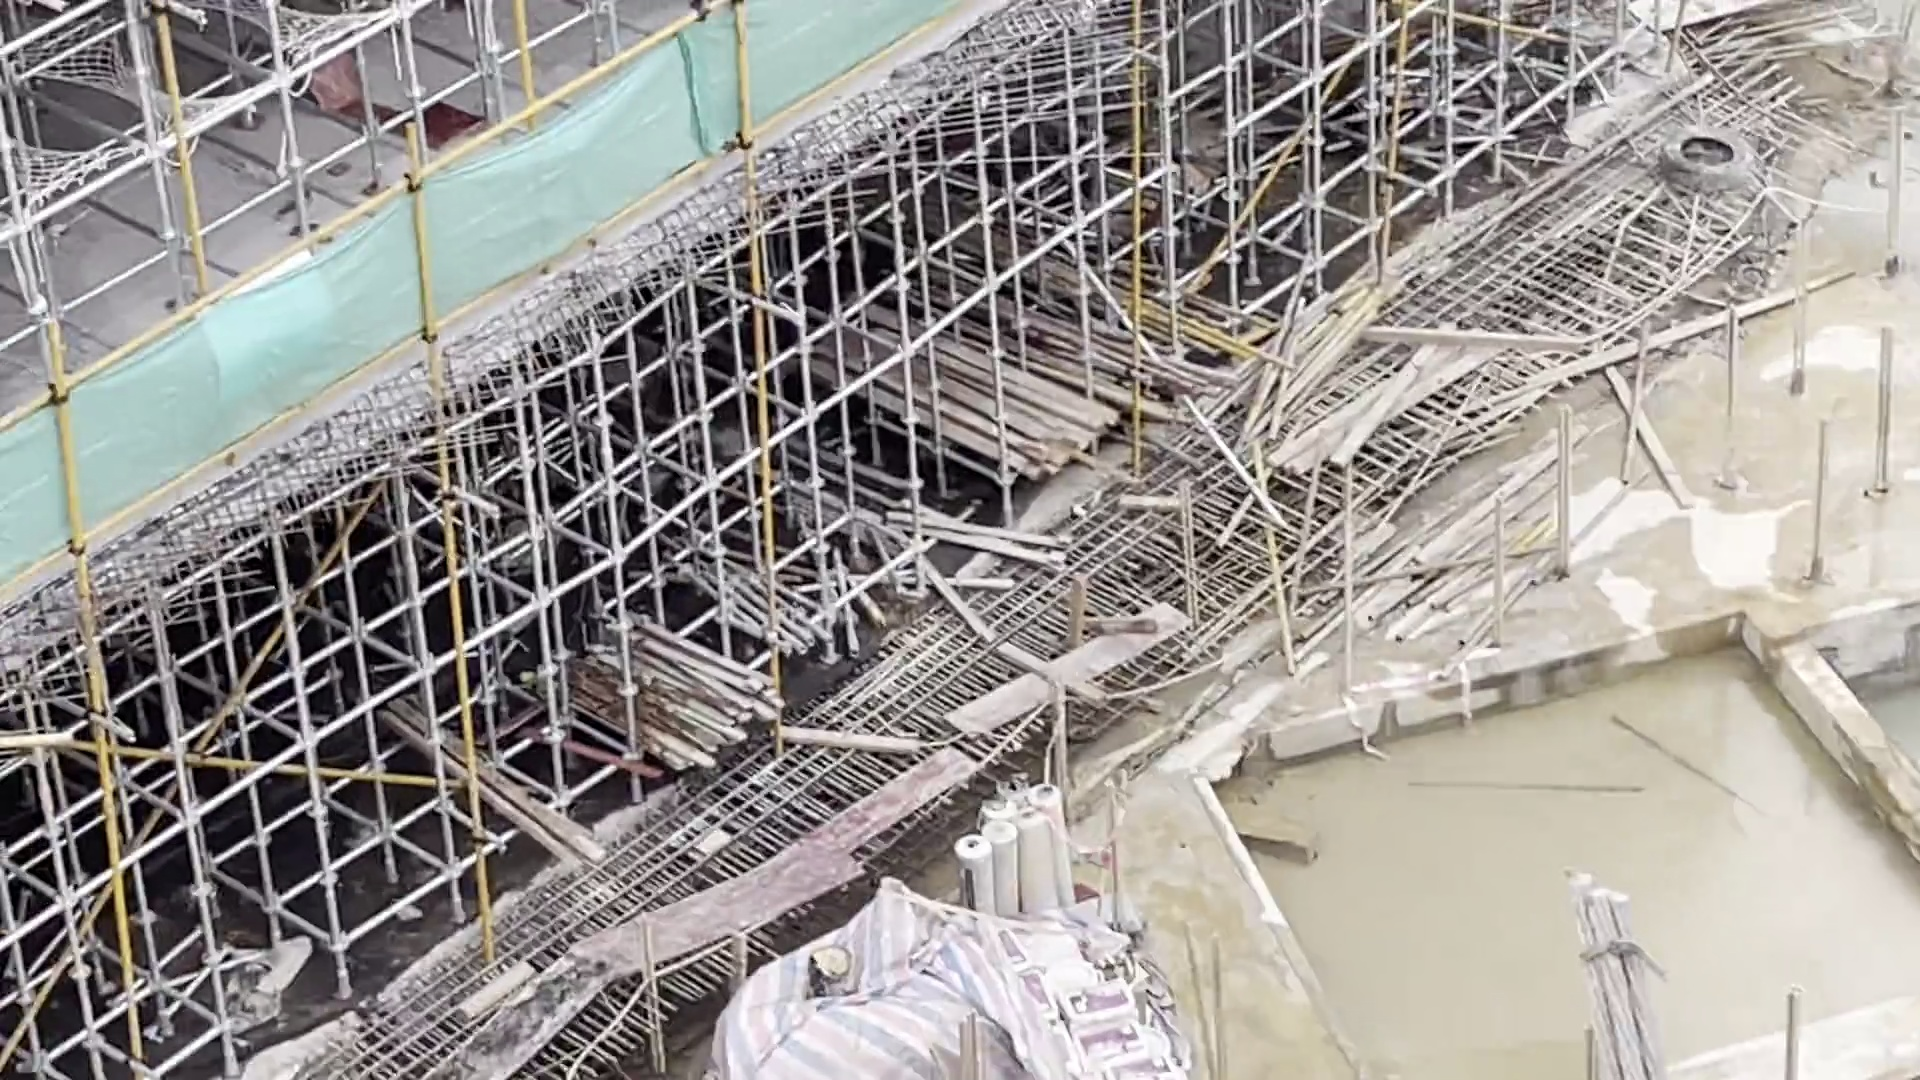wood: (785, 268, 1118, 495), (506, 612, 786, 775)
